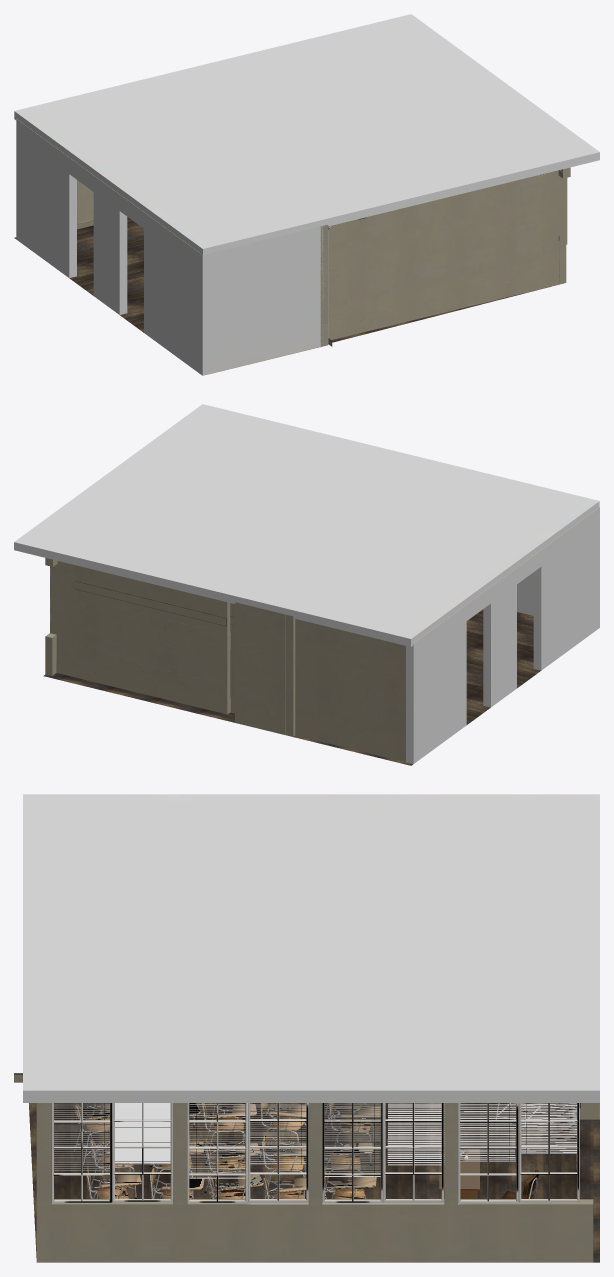
Rendered from classroom.glb.
The picture shows the model from 3 angles, top to bottom: view 1: azimuth 30°, elevation 25°; view 2: azimuth 150°, elevation 25°; view 3: azimuth 270°, elevation 25°; orthographic projection. The views are drawn at different scales.
Visible parts, largest first — view 1: Classroom; view 2: Classroom; view 3: Classroom.
Boxes of the visible parts, <box> form: Classroom: <box>14,14,599,375</box>; Classroom: <box>14,404,599,765</box>; Classroom: <box>14,794,599,1262</box>.
Bounding box in the file's own units: 10.17 × 3.11 × 8.5.
9 materials, 9 textured.
